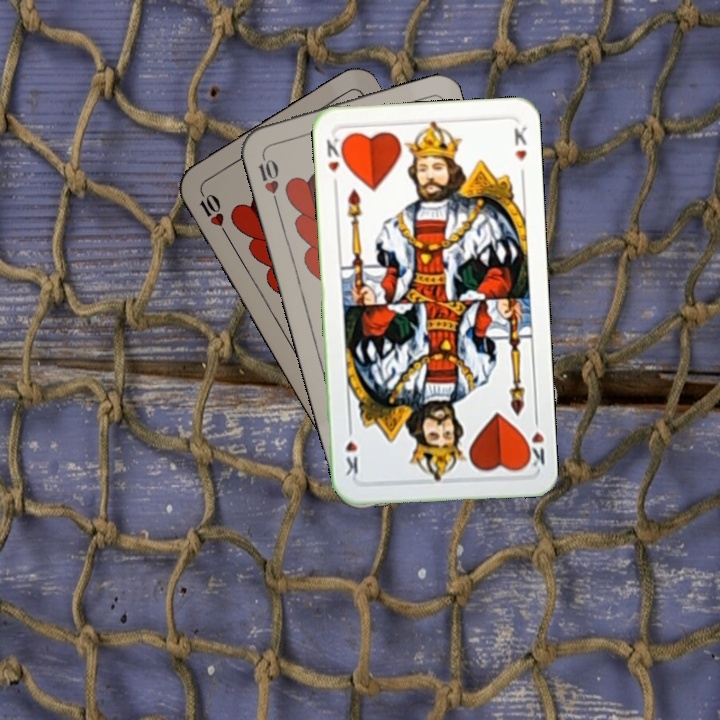H10: (195, 183, 230, 238), (254, 148, 282, 206)
HK: (520, 411, 548, 471), (322, 134, 348, 190)
